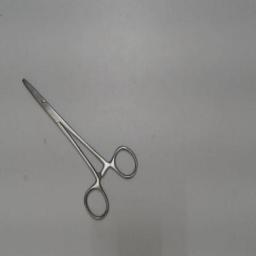Mayo Needle Holder: (15, 69, 141, 225)
